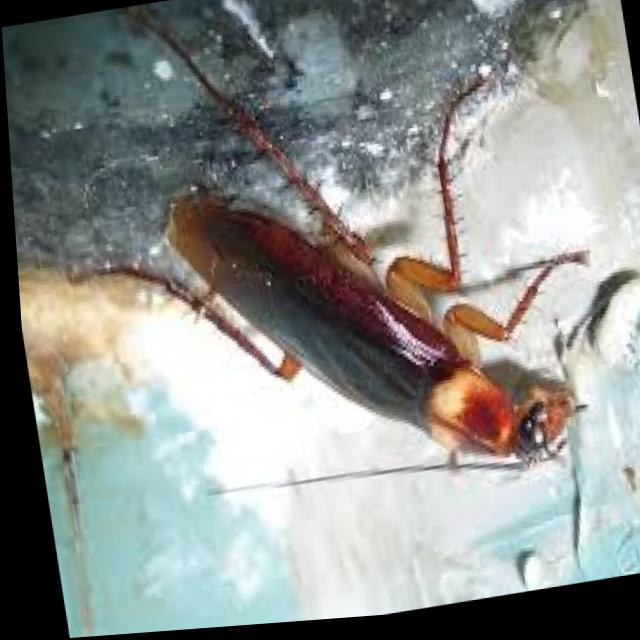Cockroach: (25, 0, 640, 639)
